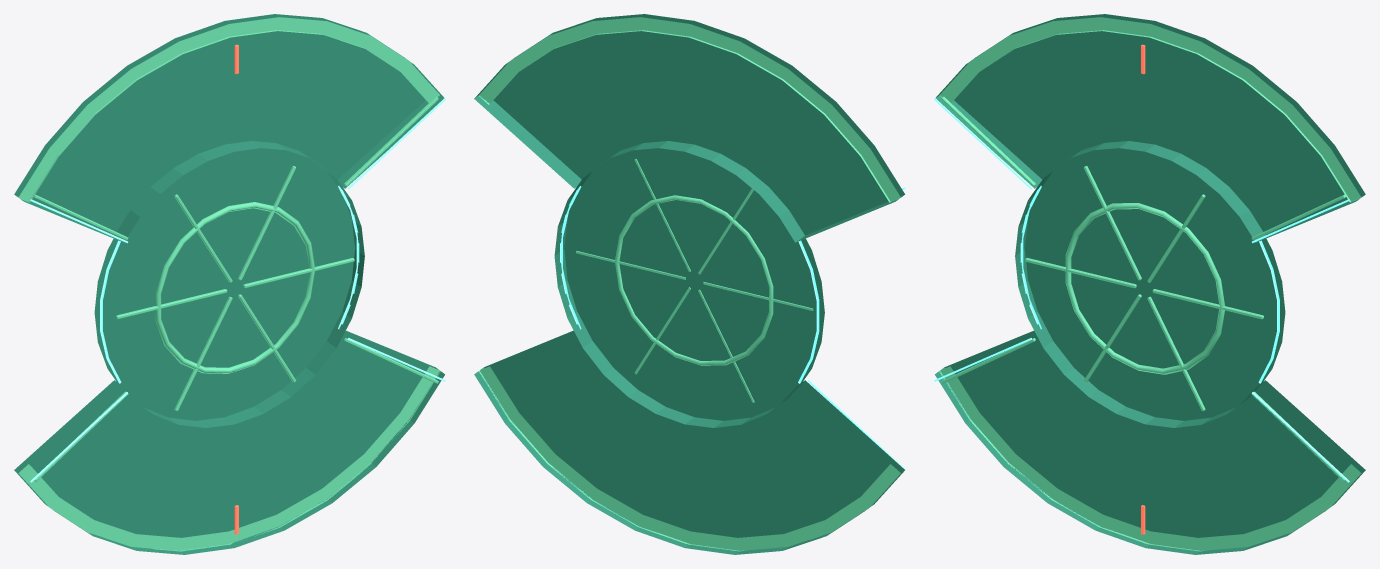
File: bio-panel-fun1-low.glb
3 renders of one model, left to right at view 1: azimuth 30°, elevation 25°; view 2: azimuth 150°, elevation 25°; view 3: azimuth 330°, elevation 25°, orthographic.
Visible parts, largest first — view 1: RENDER_PANEL_SHELL, RENDER_PANEL_FRAME, RENDER_PANEL_SIGNAL; view 2: RENDER_PANEL_SHELL, RENDER_PANEL_FRAME, RENDER_PANEL_SIGNAL; view 3: RENDER_PANEL_SHELL, RENDER_PANEL_FRAME, RENDER_PANEL_SIGNAL.
Boxes of the visible parts, left/top/right/bottom form: RENDER_PANEL_SHELL: left=14, top=14, right=444, bottom=554; RENDER_PANEL_FRAME: left=18, top=17, right=440, bottom=551; RENDER_PANEL_SIGNAL: left=30, top=98, right=445, bottom=482; RENDER_PANEL_SHELL: left=474, top=14, right=904, bottom=554; RENDER_PANEL_FRAME: left=479, top=17, right=900, bottom=551; RENDER_PANEL_SIGNAL: left=560, top=186, right=905, bottom=469; RENDER_PANEL_SHELL: left=935, top=14, right=1365, bottom=554; RENDER_PANEL_FRAME: left=939, top=17, right=1361, bottom=551; RENDER_PANEL_SIGNAL: left=934, top=98, right=1349, bottom=482.
Size of what is drawn, in the model's own units: 34.77 by 41 by 1.95.
